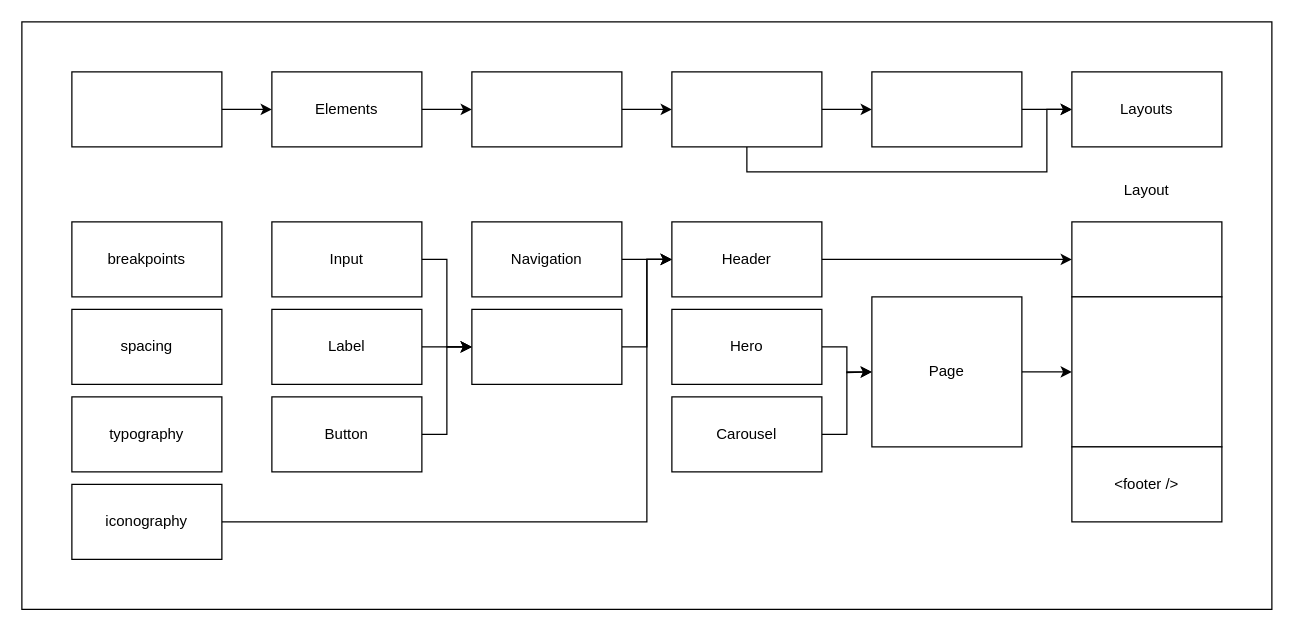
Some shapes in this 1294 by 631 pixel diagram are drawn without their labels. Each missing label, with the centre of its shape:
<header />: point (1146, 259)
<main />: point (1146, 371)
Features: point (746, 109)
Foundation: point (146, 109)
Modules: point (546, 109)
Pages: point (946, 109)
SearchBar: point (546, 346)
